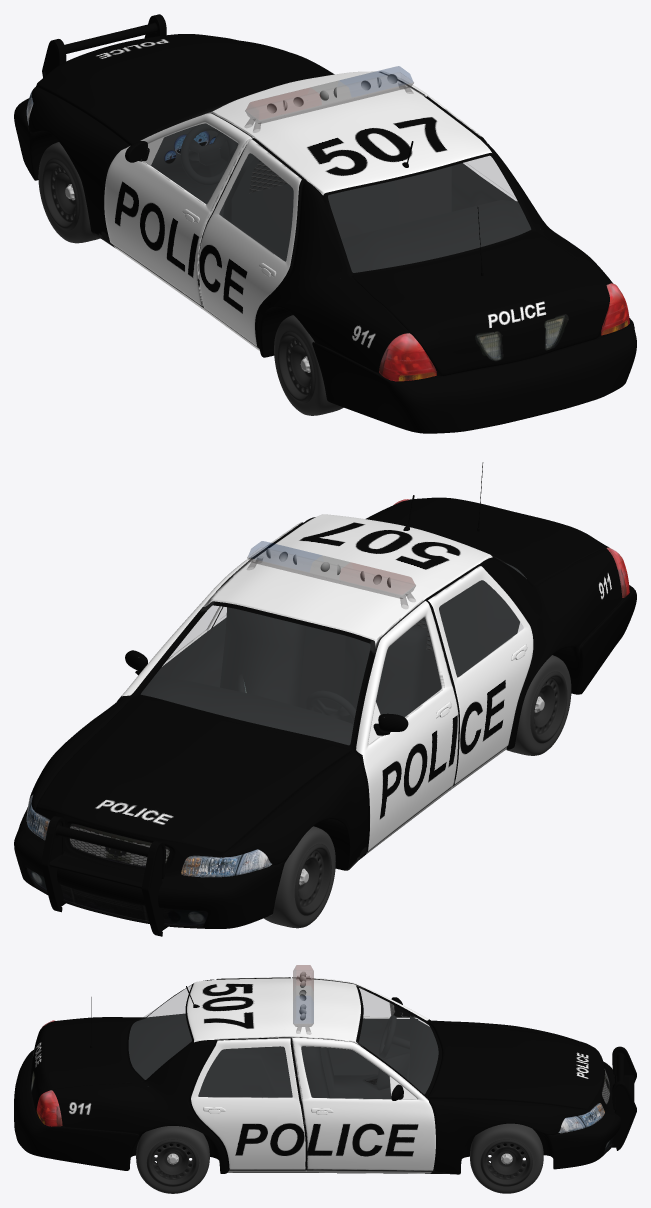
Rendered from police_car.glb.
3 renders of one model, top to bottom at view 1: azimuth 30°, elevation 25°; view 2: azimuth 150°, elevation 25°; view 3: azimuth 270°, elevation 25°, orthographic. The views are drawn at different scales.
Visible parts, largest first — view 1: body (×3), glass, wheel_rl, wheel_fl; view 2: body (×3), glass, wheel_fl, wheel_rl; view 3: body (×3), glass, wheel_fr, wheel_rr.
Boxes of the visible parts, bbox=[...] form: body (×3): bbox=[14, 14, 636, 433]; glass: bbox=[151, 104, 530, 272]; wheel_rl: bbox=[274, 315, 343, 415]; wheel_fl: bbox=[38, 142, 99, 243]; body (×3): bbox=[14, 462, 636, 936]; glass: bbox=[141, 557, 524, 744]; wheel_fl: bbox=[264, 826, 335, 928]; wheel_rl: bbox=[507, 655, 571, 755]; body (×3): bbox=[14, 965, 636, 1174]; glass: bbox=[129, 985, 438, 1098]; wheel_fr: bbox=[470, 1123, 543, 1193]; wheel_rr: bbox=[136, 1126, 209, 1193].
Size of the model in its own units: 2 by 1.6 by 5.4.
Materials: 6 (4 with a texture image).
